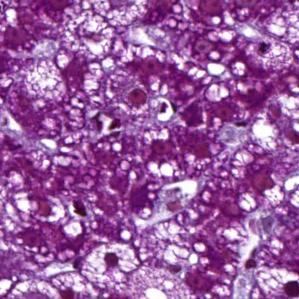ballooning: (77, 240, 142, 289), (251, 260, 298, 299)
